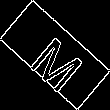M_NE: (23, 21, 87, 89)
